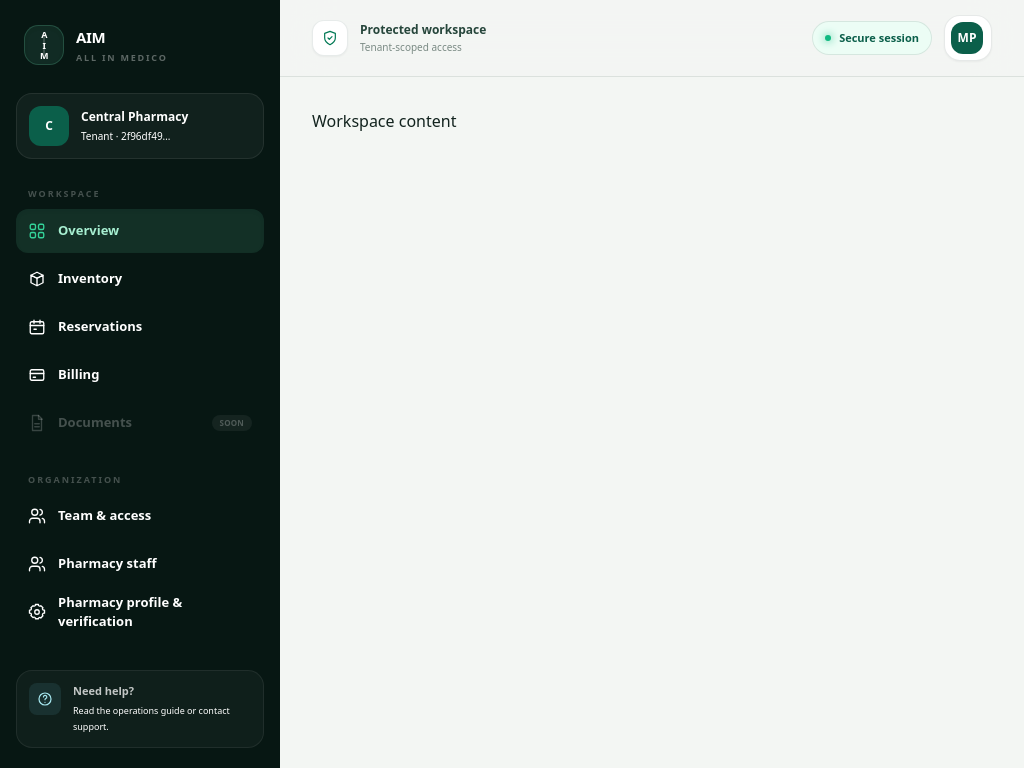
Test case: AppShell account menu › closes on Escape
Step 1. Click the button with aria-label "Open account menu" → coordinates (968, 38), box [944,15,992,61]
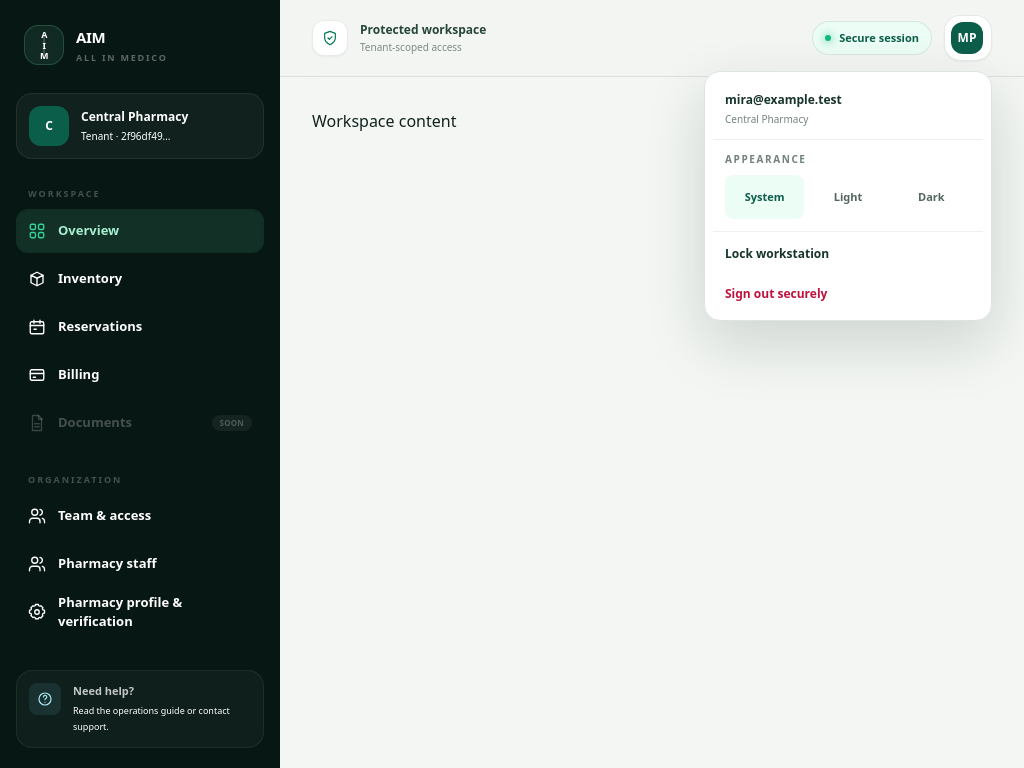
Check: the text "mira@example.test" is shown, box [725,91,842,108]
Step 2. Press Escape
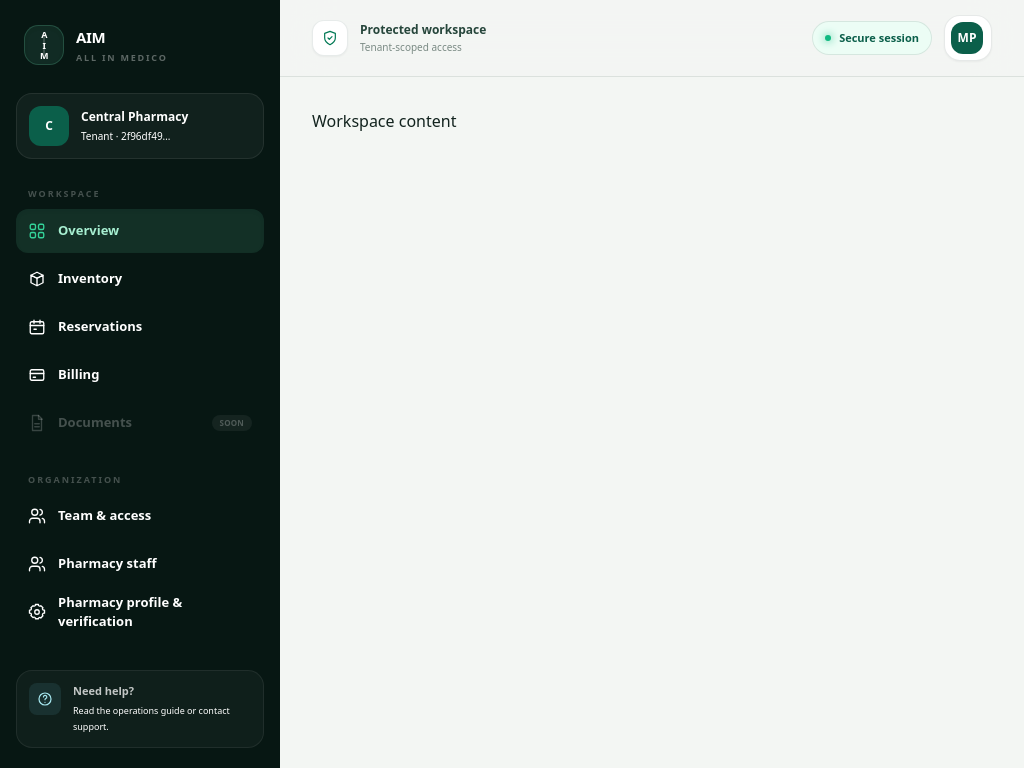
Check: the text "mira@example.test" is gone
